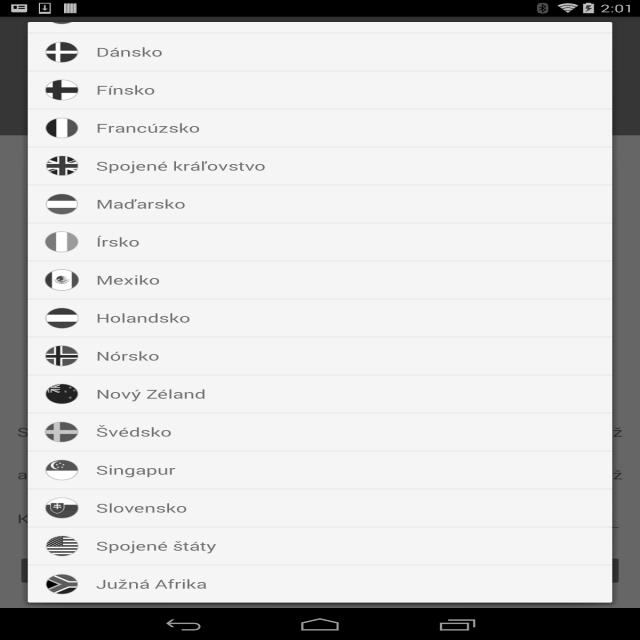ImageView: (39, 458, 86, 486), (40, 268, 90, 292), (42, 37, 82, 66), (39, 115, 87, 139), (42, 532, 88, 557), (42, 380, 86, 406), (42, 191, 85, 215)
TextView: (95, 154, 278, 177), (92, 571, 216, 592), (91, 495, 203, 518), (90, 39, 172, 64), (94, 309, 196, 327), (91, 80, 168, 102), (92, 232, 163, 252), (97, 422, 174, 440)
